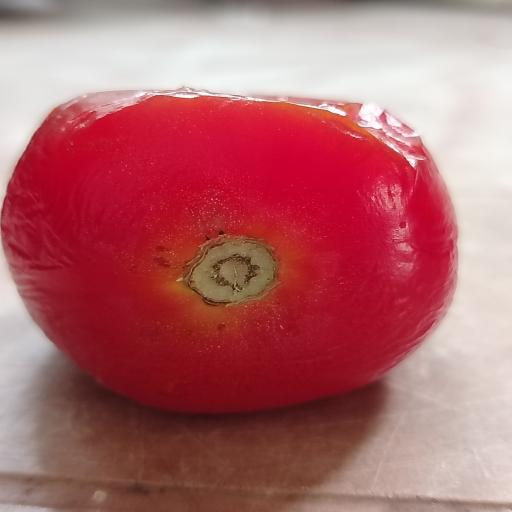spoiled: (2, 89, 457, 413)
